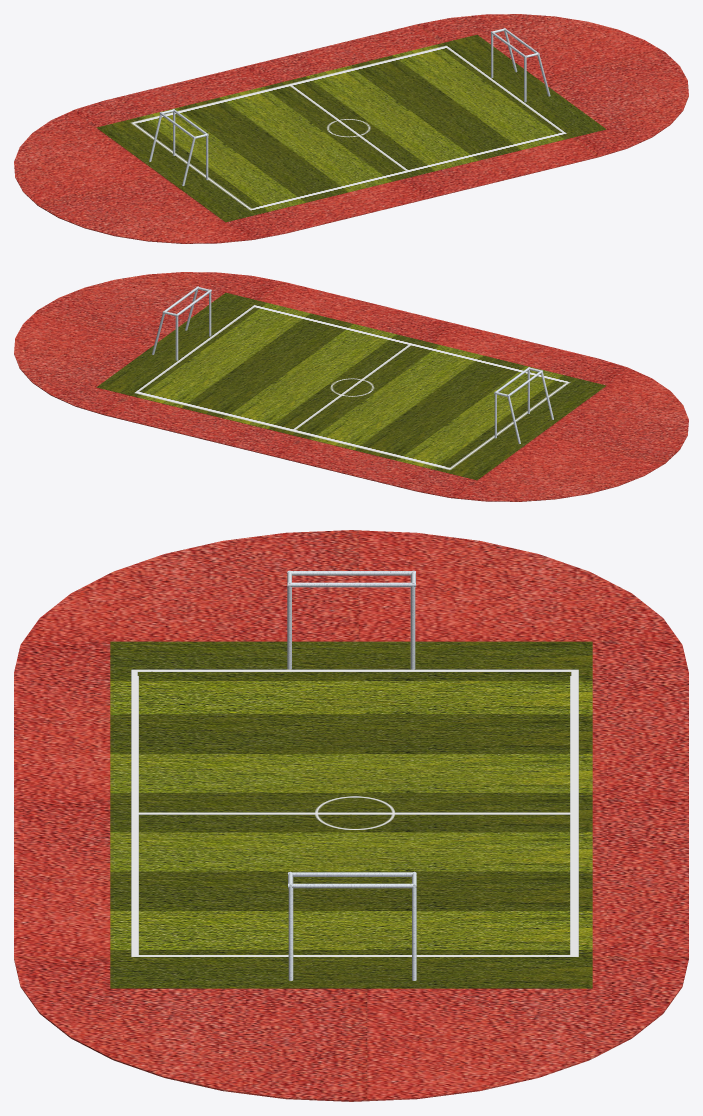
The model's file is schoolyard.FBX.
3 renders of one model, top to bottom at view 1: azimuth 30°, elevation 25°; view 2: azimuth 150°, elevation 25°; view 3: azimuth 270°, elevation 25°, orthographic. The views are drawn at different scales.
Visible parts, largest first — view 1: Schoolyard; view 2: Schoolyard; view 3: Schoolyard.
Part boxes in pixels (x1,y1,x2,y2): Schoolyard: (14,14,688,243); Schoolyard: (14,272,688,501); Schoolyard: (14,530,688,1101).
Size of the model in its own units: 2800 by 201 by 1400.
